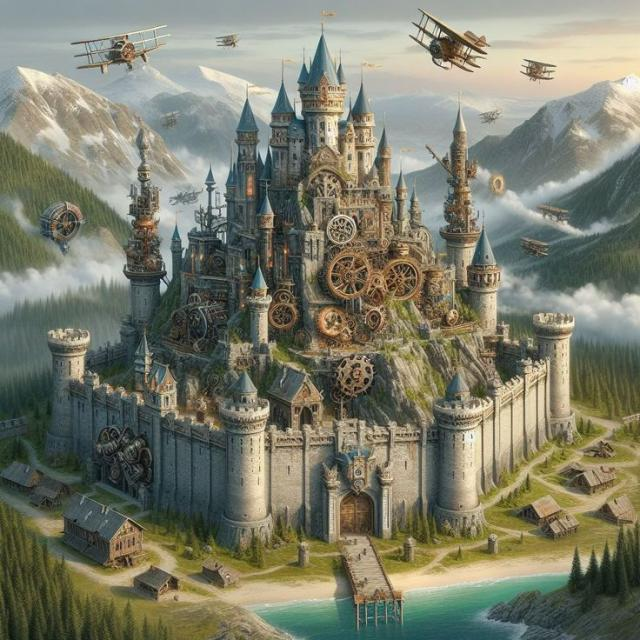castle: (55, 36, 591, 559)
